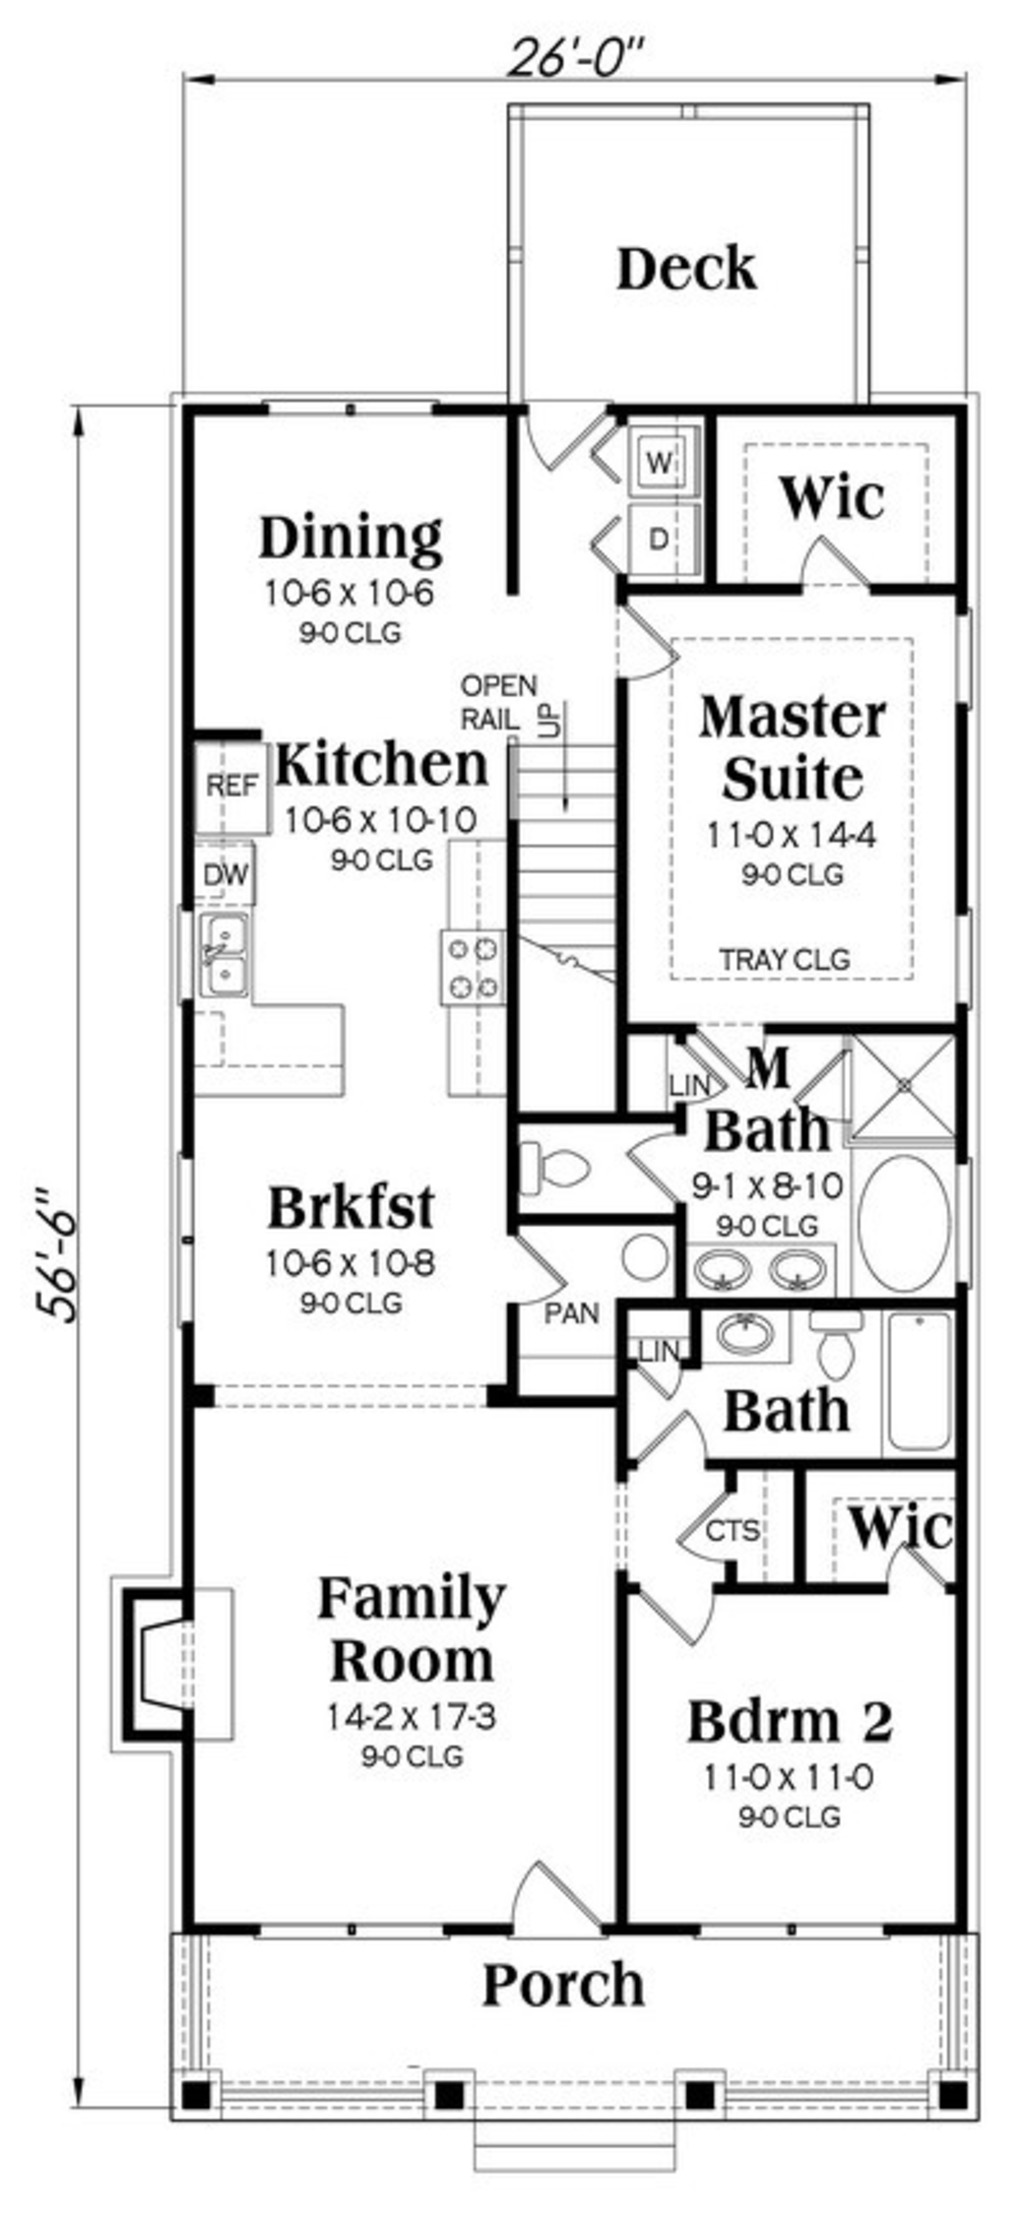door: (496, 1831, 599, 1956), (492, 1211, 585, 1329), (790, 529, 905, 623), (620, 1563, 727, 1663), (634, 1398, 727, 1494), (603, 570, 682, 683), (506, 401, 610, 484), (871, 1529, 975, 1608), (679, 1484, 761, 1567)
large_sink: (472, 1123, 620, 1214), (790, 1298, 871, 1394)
small_sink: (675, 1245, 838, 1298), (616, 1204, 692, 1308), (699, 1291, 780, 1377)
stairs: (499, 702, 682, 1123)
tub: (871, 1298, 965, 1467)
twin_sink: (189, 898, 261, 1025)
window: (679, 1901, 919, 1967), (251, 1905, 468, 1953), (158, 1154, 203, 1356), (258, 374, 434, 425)
